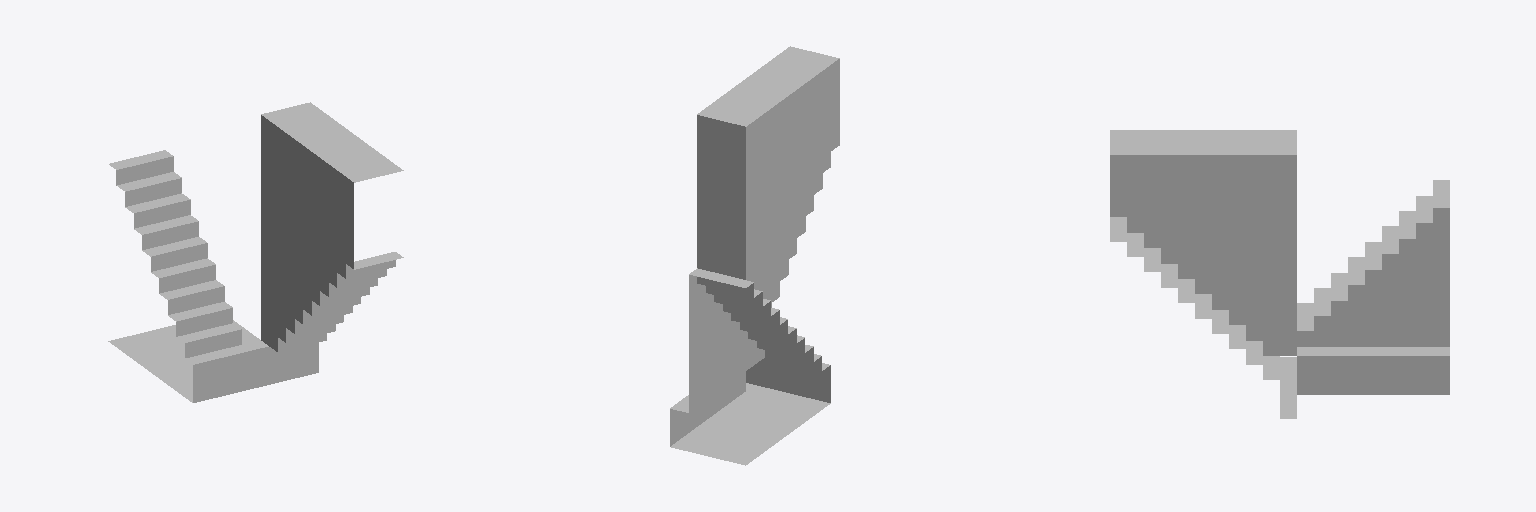
The model's file is KitchenStairs.obj.
The picture shows the model from 3 angles: view 1: azimuth 30°, elevation 25°; view 2: azimuth 150°, elevation 25°; view 3: azimuth 270°, elevation 25°; orthographic projection.
Visible parts, largest first — view 1: Stairs; view 2: Stairs; view 3: Stairs.
Boxes of the visible parts, <box> form: Stairs: <box>108,102,403,402</box>; Stairs: <box>670,46,839,465</box>; Stairs: <box>1110,130,1449,418</box>.
Bounding box in the file's own units: 17.1 × 34.28 × 40.